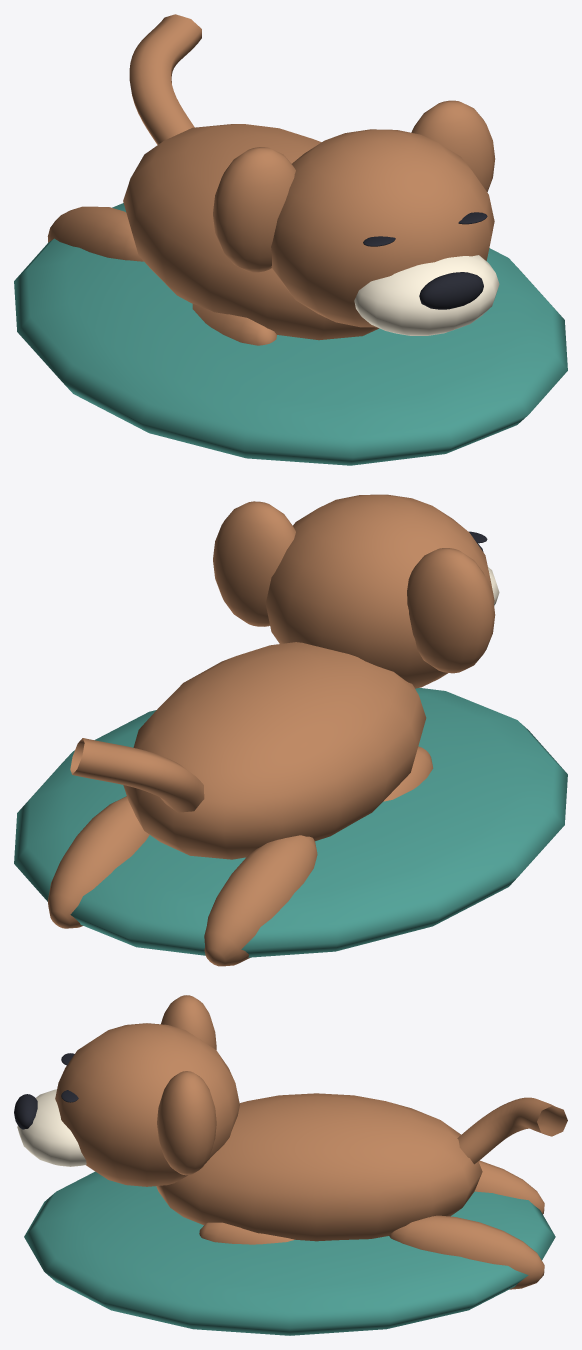
File: dog-sleep.glb
3 views of the same model, one above another, from view 1: azimuth 30°, elevation 25°; view 2: azimuth 150°, elevation 25°; view 3: azimuth 270°, elevation 25° (orthographic). The views are drawn at different scales.
Visible parts, largest first — view 1: soft dog bed, animal head, round animal body, animal ear, muzzle, tail, animal ear.001, little paw.001, nose, little paw; view 2: soft dog bed, round animal body, animal head, animal ear, little paw.001, animal ear.001, little paw.003, tail, little paw; view 3: soft dog bed, round animal body, animal head, little paw.003, animal ear.001, tail, muzzle, animal ear, little paw.001, little paw.002, nose.
Part boxes in pixels (x1,y1,x2,y2): soft dog bed: (14, 203, 567, 465); animal head: (271, 129, 494, 327); round animal body: (123, 124, 378, 340); animal ear: (213, 147, 295, 272); muzzle: (354, 255, 499, 335); tail: (129, 14, 201, 144); animal ear.001: (411, 100, 495, 191); little paw.001: (47, 206, 143, 261); nose: (419, 272, 483, 309); little paw: (192, 304, 276, 345); soft dog bed: (14, 688, 567, 957); round animal body: (123, 642, 426, 859); animal head: (265, 494, 494, 688); animal ear: (407, 548, 495, 673); little paw.001: (204, 835, 317, 966); animal ear.001: (213, 501, 295, 626); little paw.003: (48, 796, 149, 928); tail: (70, 738, 204, 812); little paw: (383, 746, 433, 801); soft dog bed: (24, 1171, 555, 1335); round animal body: (156, 1093, 482, 1241); animal head: (55, 1023, 239, 1186); little paw.003: (389, 1215, 544, 1289); animal ear.001: (157, 1071, 216, 1175); tail: (457, 1097, 567, 1164); muzzle: (17, 1089, 86, 1166); animal ear: (161, 995, 216, 1049); little paw.001: (474, 1160, 544, 1214); little paw.002: (199, 1222, 294, 1244); nose: (14, 1094, 37, 1129).
Bounding box in the file's own units: 1.3 × 0.8056 × 1.67.
